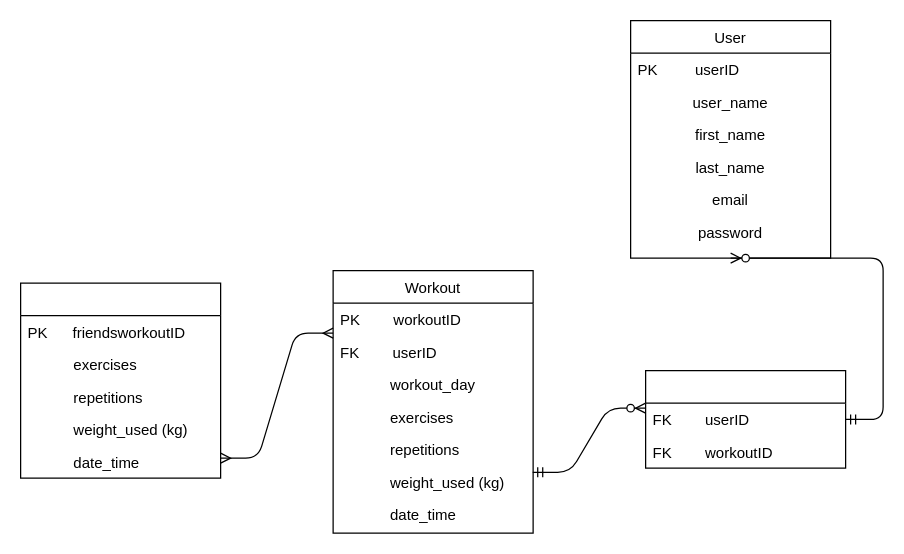
This 904x554 diagram has some shape labels left out. Here are the shapes that lost their labels. From the top down, the box of each, then its label:
(19, 282, 221, 478): Friends workouts
(644, 369, 846, 468): User workouts
